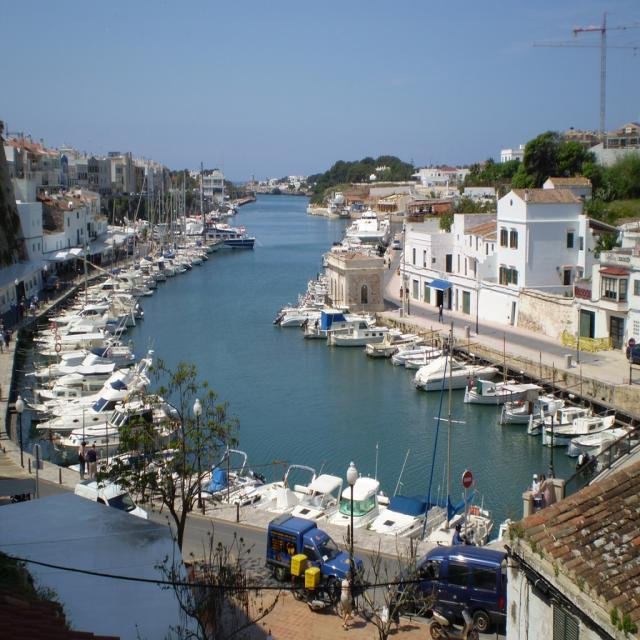Boat: (170, 443, 264, 518), (462, 330, 540, 406), (38, 392, 146, 442), (240, 467, 360, 511), (325, 466, 397, 538), (59, 358, 124, 412), (44, 338, 135, 376), (26, 374, 113, 413), (132, 181, 166, 265), (177, 174, 203, 276), (54, 302, 128, 336), (420, 362, 500, 392), (568, 424, 634, 460), (173, 172, 196, 270), (75, 266, 142, 299), (496, 398, 564, 430), (157, 166, 175, 279), (548, 415, 612, 446), (185, 181, 208, 261), (100, 265, 156, 296), (529, 406, 593, 433), (309, 315, 375, 341), (33, 359, 102, 383), (28, 329, 107, 349), (51, 318, 110, 343), (68, 288, 134, 310), (70, 299, 146, 318), (327, 329, 399, 349), (368, 337, 416, 361), (100, 276, 138, 294), (404, 352, 447, 367), (130, 257, 162, 276), (394, 347, 438, 358), (138, 262, 154, 290)
